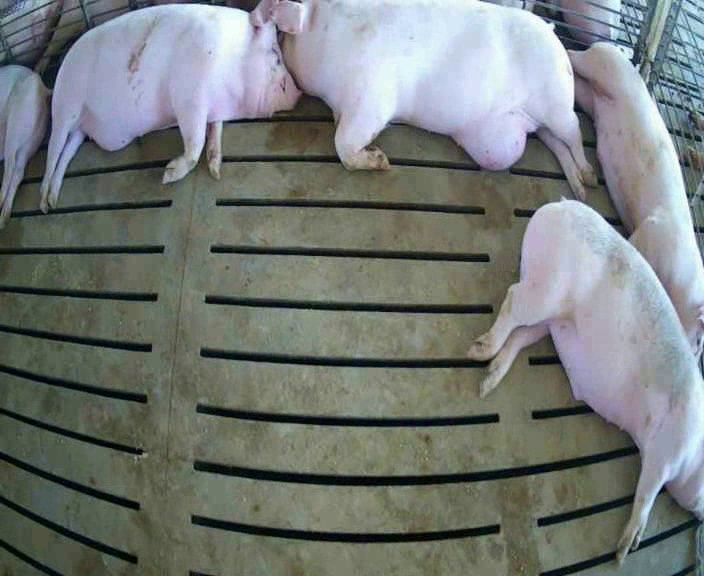pig: (468, 196, 703, 562), (272, 2, 595, 198), (41, 2, 299, 210), (569, 43, 703, 356), (0, 64, 48, 228)
